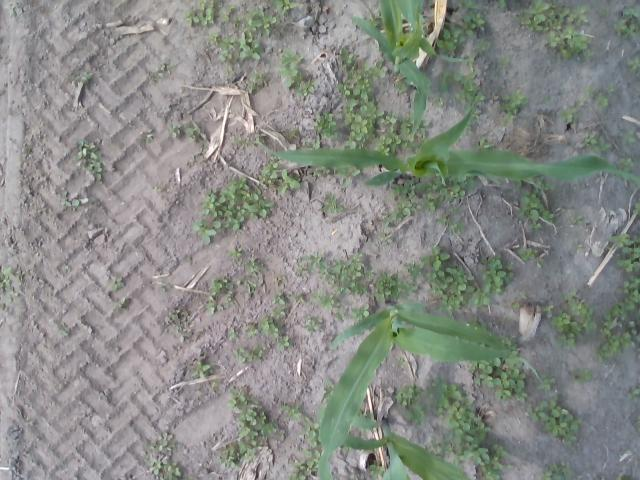Maize: (239, 86, 640, 186), (318, 302, 511, 480), (348, 0, 470, 140), (345, 416, 468, 480), (396, 0, 423, 60)
Weeds: (426, 374, 490, 448), (200, 174, 274, 228), (528, 394, 582, 447), (301, 252, 366, 296), (226, 385, 278, 440), (468, 358, 528, 404), (424, 266, 474, 316), (446, 441, 510, 480), (342, 96, 385, 149), (518, 0, 586, 31), (141, 431, 182, 480), (337, 60, 384, 99), (540, 30, 594, 60), (370, 272, 420, 304), (480, 254, 515, 296), (516, 193, 554, 228), (594, 328, 634, 361), (554, 306, 582, 350), (220, 436, 260, 466), (397, 382, 422, 426), (602, 299, 636, 330), (564, 289, 594, 321), (245, 8, 276, 38), (185, 0, 216, 26), (236, 30, 262, 60), (419, 246, 450, 271), (539, 461, 575, 479), (192, 218, 215, 246), (314, 112, 338, 138), (518, 176, 556, 192), (501, 90, 526, 114), (376, 134, 402, 155), (301, 418, 319, 448), (233, 346, 266, 362), (0, 264, 18, 293), (282, 47, 304, 69), (166, 308, 190, 328), (280, 170, 300, 194), (392, 180, 422, 196), (617, 274, 640, 294), (453, 72, 478, 90), (322, 192, 344, 212), (290, 460, 312, 480), (310, 292, 341, 306), (462, 12, 486, 30), (259, 315, 278, 337), (439, 184, 465, 200), (436, 30, 456, 50), (392, 198, 412, 218), (338, 166, 358, 185), (238, 278, 256, 299), (244, 256, 265, 274), (617, 257, 640, 273), (405, 261, 424, 280), (76, 138, 95, 157), (190, 359, 210, 377), (518, 246, 540, 262), (304, 450, 323, 468), (86, 159, 102, 180), (538, 372, 556, 390), (279, 68, 296, 87), (218, 38, 232, 61), (274, 0, 296, 14), (472, 288, 489, 306), (572, 368, 592, 383), (452, 28, 473, 42), (594, 138, 612, 154), (434, 208, 452, 224), (352, 303, 371, 318), (302, 316, 322, 330), (280, 405, 300, 419), (378, 110, 395, 126), (208, 278, 221, 297), (611, 235, 632, 246), (439, 70, 450, 90), (342, 46, 354, 64), (618, 158, 636, 170), (454, 90, 469, 104), (563, 108, 577, 123), (185, 122, 198, 138), (335, 307, 348, 323), (368, 464, 384, 477), (420, 118, 430, 138), (478, 38, 492, 52), (582, 320, 598, 332), (272, 290, 288, 302), (620, 130, 636, 142), (624, 246, 640, 258), (276, 336, 289, 350), (274, 305, 288, 318), (314, 166, 332, 176), (458, 0, 478, 9), (477, 136, 492, 148), (322, 376, 332, 394), (616, 18, 626, 35), (110, 275, 122, 289), (402, 134, 414, 148), (172, 123, 183, 138), (400, 118, 410, 134), (624, 26, 636, 39), (585, 132, 598, 144), (453, 219, 466, 231), (379, 234, 394, 244), (258, 274, 266, 292), (300, 81, 312, 93), (628, 290, 640, 302), (294, 264, 305, 277), (269, 154, 280, 167), (228, 246, 242, 256), (626, 7, 640, 17), (228, 326, 238, 340), (243, 138, 266, 144), (382, 213, 391, 228), (629, 389, 640, 401), (203, 302, 214, 314), (423, 198, 434, 210), (259, 166, 272, 176), (396, 81, 406, 94), (597, 93, 607, 106), (72, 198, 88, 206), (61, 192, 70, 206), (222, 278, 233, 289), (254, 70, 266, 80), (288, 128, 300, 138), (628, 58, 638, 70), (571, 215, 583, 225), (425, 182, 438, 191), (466, 54, 474, 68), (248, 323, 256, 337), (56, 324, 66, 335), (274, 275, 284, 286), (81, 72, 92, 82), (397, 356, 408, 366), (504, 338, 516, 347), (6, 4, 16, 14), (245, 80, 255, 90), (433, 96, 443, 106), (210, 35, 221, 44), (472, 109, 482, 118), (634, 202, 640, 216), (502, 56, 512, 64), (210, 378, 220, 386), (227, 290, 234, 301), (233, 16, 240, 27), (512, 301, 521, 309), (162, 283, 170, 292), (155, 68, 163, 77), (228, 4, 237, 12), (296, 72, 302, 84), (23, 146, 32, 154), (602, 8, 611, 16), (588, 85, 594, 97), (162, 66, 170, 74), (146, 135, 154, 143), (574, 241, 582, 249), (270, 171, 277, 180), (506, 114, 516, 120), (496, 118, 506, 124), (633, 236, 640, 244), (70, 74, 79, 80), (500, 0, 506, 9), (470, 91, 476, 100), (218, 303, 225, 310), (222, 14, 228, 22), (580, 98, 586, 106), (237, 135, 242, 144), (258, 176, 265, 182), (544, 305, 552, 310), (619, 472, 624, 480), (544, 96, 550, 102), (155, 187, 162, 192), (606, 88, 612, 93)
